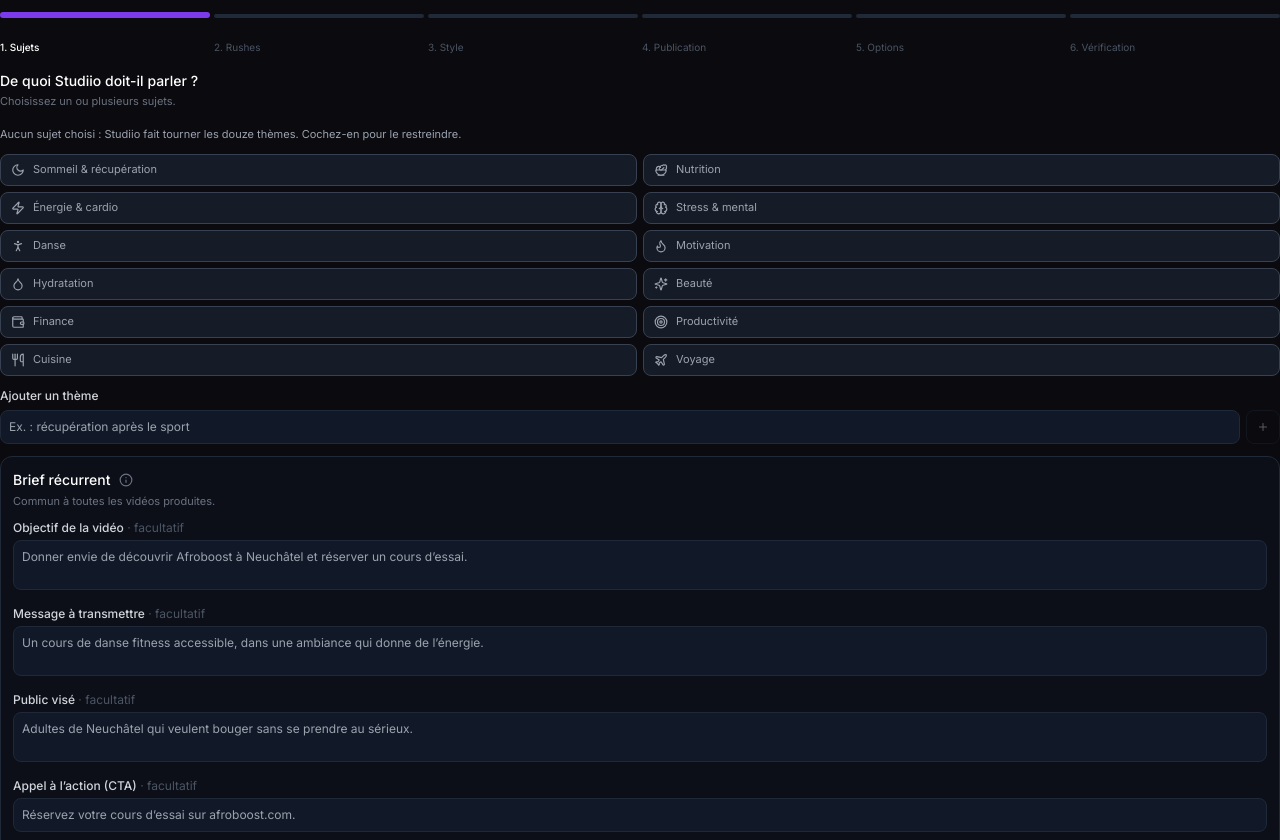
Test: L heure de publication › la phrase de diffusion dit les DEUX heures, séparément
Expected: the text "De quoi Studiio doit-il parler ?" is shown, [0,72,198,89]
Click the button named "Publication" at point(747, 16), box [642,14,852,18]
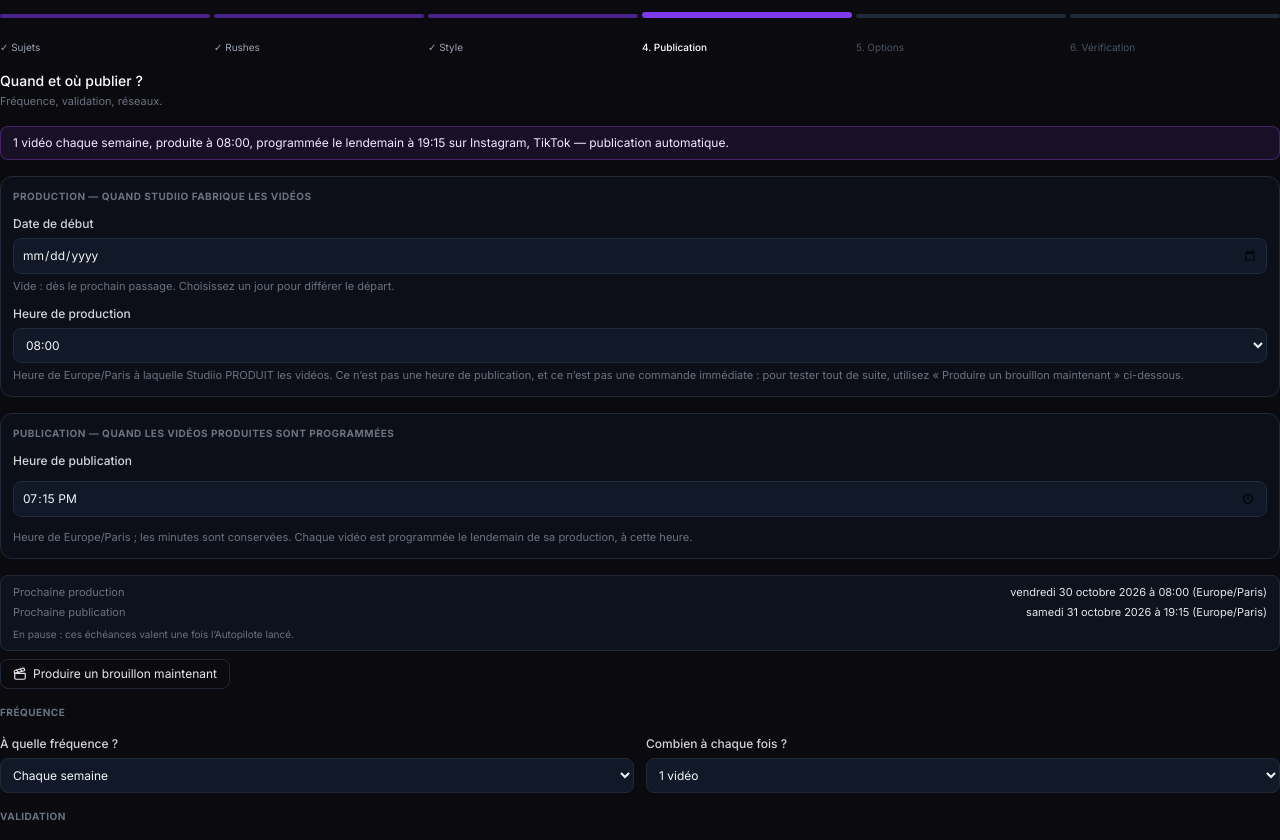
Expected: the time field labelled "Heure de publication" is shown, [13,480,1267,517]
Expected: the text "produite à 08:00" is shown, [13,134,729,150]
Expected: the text "le lendemain à 19:15 sur Instagram, TikTok" is shown, [13,134,729,150]
